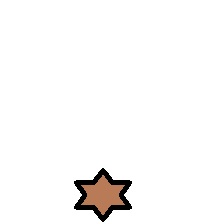star: (73, 167, 132, 222)
